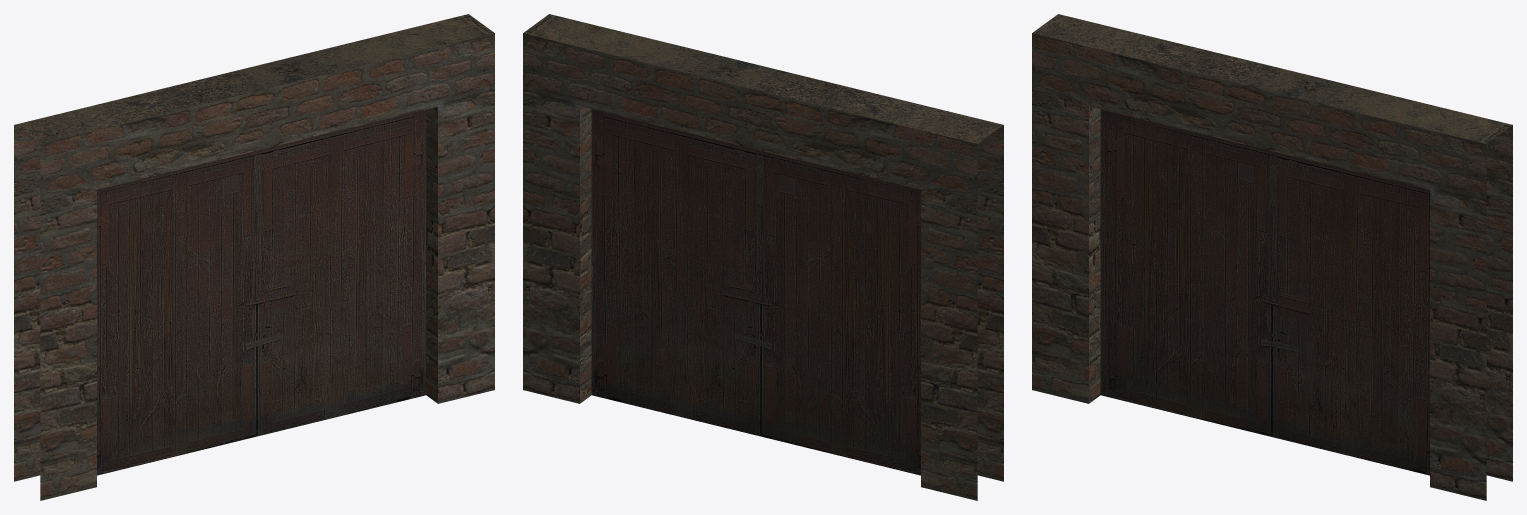
The model's file is garage_door_frame_hr_2.obj.
3 views of the same model, side by side, from view 1: azimuth 30°, elevation 25°; view 2: azimuth 150°, elevation 25°; view 3: azimuth 330°, elevation 25° (orthographic).
Visible parts, largest first — view 1: garage_door_hm_5, garage_door_frame_hr_2; view 2: garage_door_hm_5, garage_door_frame_hr_2; view 3: garage_door_hm_5, garage_door_frame_hr_2.
Boxes of the visible parts, left/top/right/bottom form: garage_door_hm_5: left=97, top=109, right=426, bottom=475; garage_door_frame_hr_2: left=14, top=14, right=494, bottom=500; garage_door_hm_5: left=591, top=109, right=920, bottom=475; garage_door_frame_hr_2: left=523, top=14, right=1003, bottom=500; garage_door_hm_5: left=1100, top=109, right=1429, bottom=475; garage_door_frame_hr_2: left=1032, top=14, right=1512, bottom=500.
Size of the model in its own units: 4 by 3 by 0.4.
